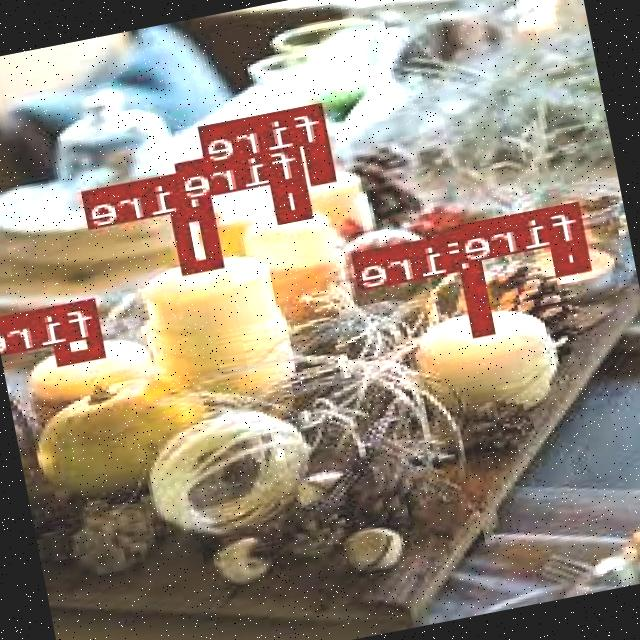fire: (51, 297, 109, 363), (176, 204, 227, 272), (466, 264, 498, 333), (273, 176, 314, 222), (556, 237, 594, 274), (306, 139, 338, 182)
